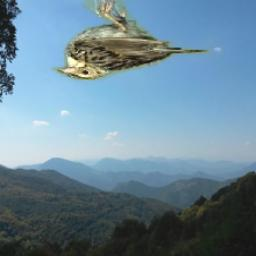Sparrow: (51, 0, 212, 83)
